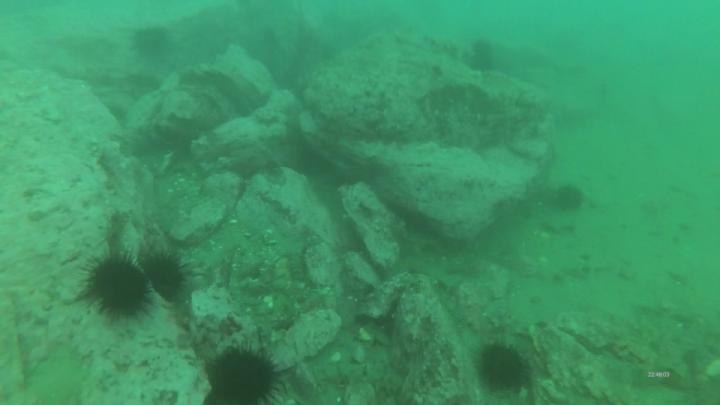echinus: (79, 245, 157, 326), (206, 337, 290, 405), (473, 340, 533, 398), (139, 247, 193, 306), (130, 24, 172, 61), (550, 182, 587, 218), (469, 38, 497, 68)
